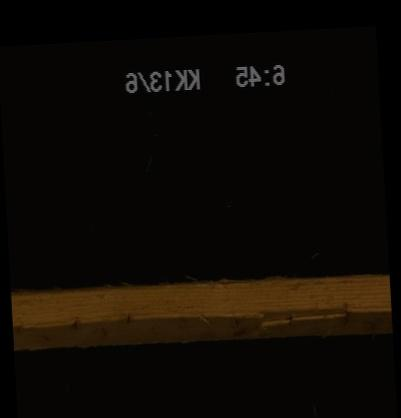wave: (12, 277, 389, 336)
